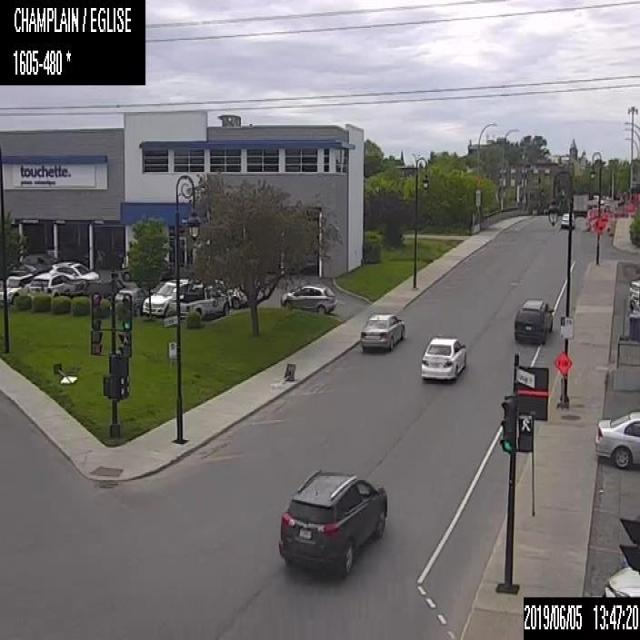construction: (553, 348, 571, 407), (590, 211, 605, 233), (272, 378, 281, 391)
vehicle: (278, 468, 387, 573), (594, 409, 639, 468), (142, 277, 202, 317), (419, 334, 466, 378), (360, 311, 405, 352), (178, 284, 230, 319), (514, 296, 552, 343), (280, 282, 335, 314), (201, 277, 247, 308), (120, 256, 173, 280), (27, 272, 71, 298), (0, 271, 33, 305), (603, 566, 639, 596), (48, 260, 99, 279), (114, 287, 146, 316), (8, 259, 52, 275), (58, 276, 90, 298), (572, 192, 588, 216), (22, 252, 58, 262), (628, 278, 639, 309), (560, 211, 575, 228), (587, 200, 592, 208), (592, 200, 597, 206), (600, 198, 604, 204)
